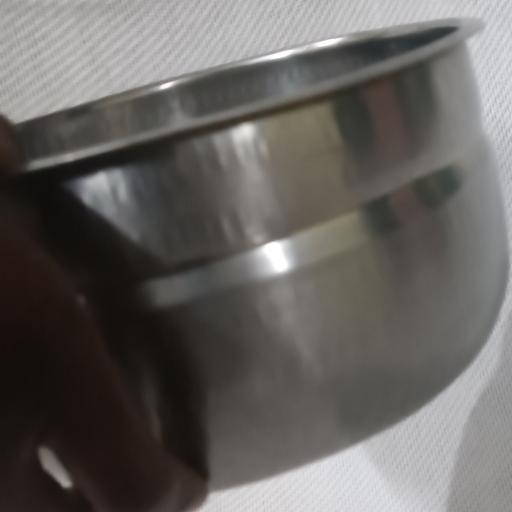vessel: (19, 20, 507, 488)
